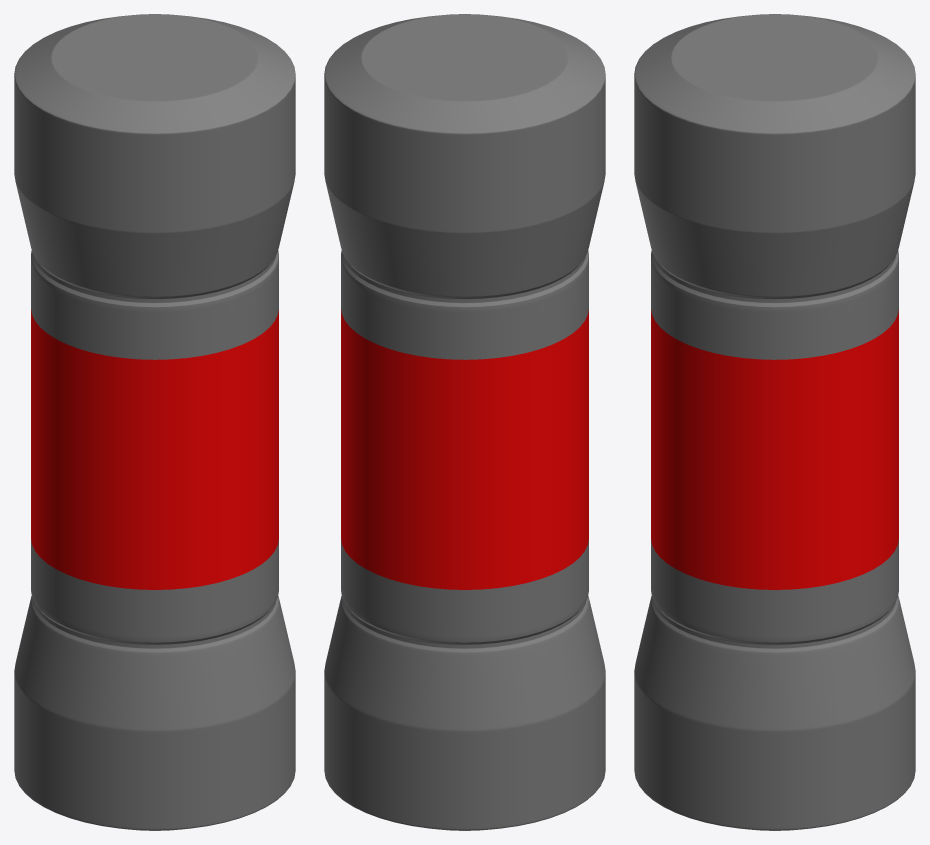
The model's file is Test_Medkit_Small.fbx.
3 renders of one model, left to right at view 1: azimuth 30°, elevation 25°; view 2: azimuth 150°, elevation 25°; view 3: azimuth 270°, elevation 25°, orthographic.
Parts seen in each view (by area): view 1: Cylinder012; view 2: Cylinder012; view 3: Cylinder012.
Boxes of the visible parts, x1=… form: Cylinder012: x1=14, y1=14, x2=295, y2=830; Cylinder012: x1=324, y1=14, x2=605, y2=830; Cylinder012: x1=634, y1=14, x2=915, y2=830.
Size of the model in its own units: 2.89 by 2.89 by 8.26.
